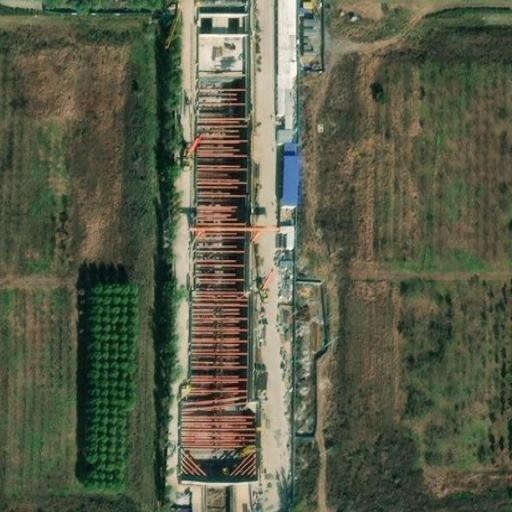building: (276, 0, 295, 128), (284, 144, 298, 205), (225, 482, 249, 512), (279, 128, 295, 144)
